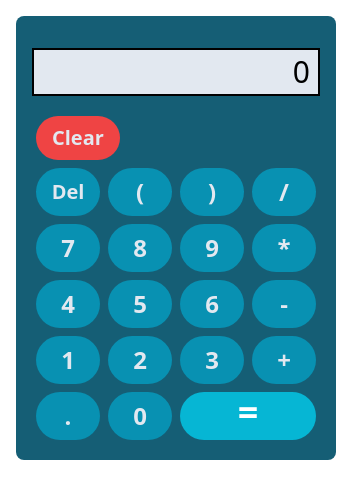
Scenario: Test de la calculadora › Verificar error de sintaxis
This screenshot has width=353, height=477.
Click the button "1".
click(68, 360)  # box [36,336,100,384]
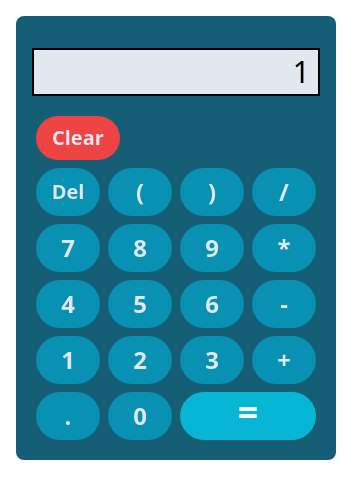
Click the button "6".
click(212, 304)  # box [180,280,244,328]
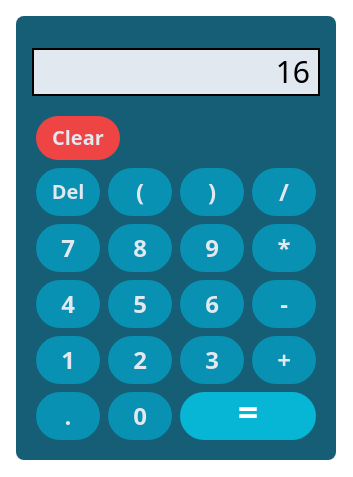
Click the button "4".
click(68, 304)  # box [36,280,100,328]
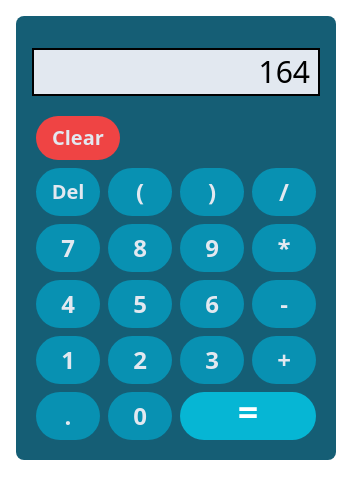
Click the button "/".
click(284, 192)  # box [252,168,316,216]
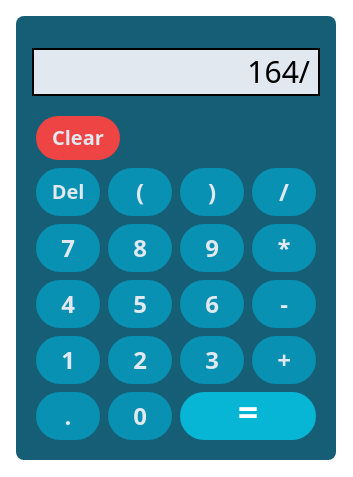
Click the button "=".
click(248, 416)  # box [180,392,316,440]
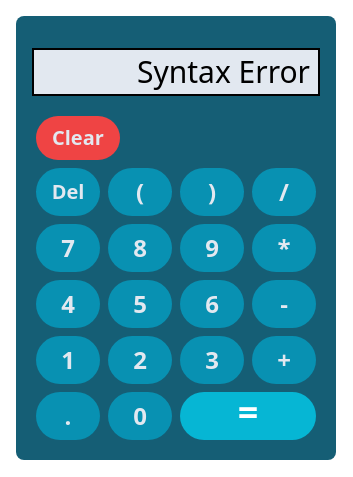
Result: the field with id "operation" holds "Syntax Error" at [32,48,320,96]
